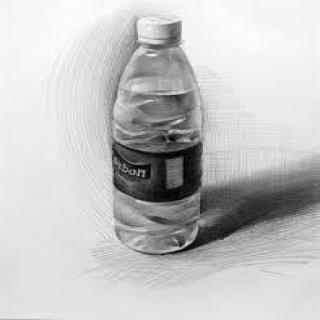Plastic-bottle: (108, 14, 209, 258)
